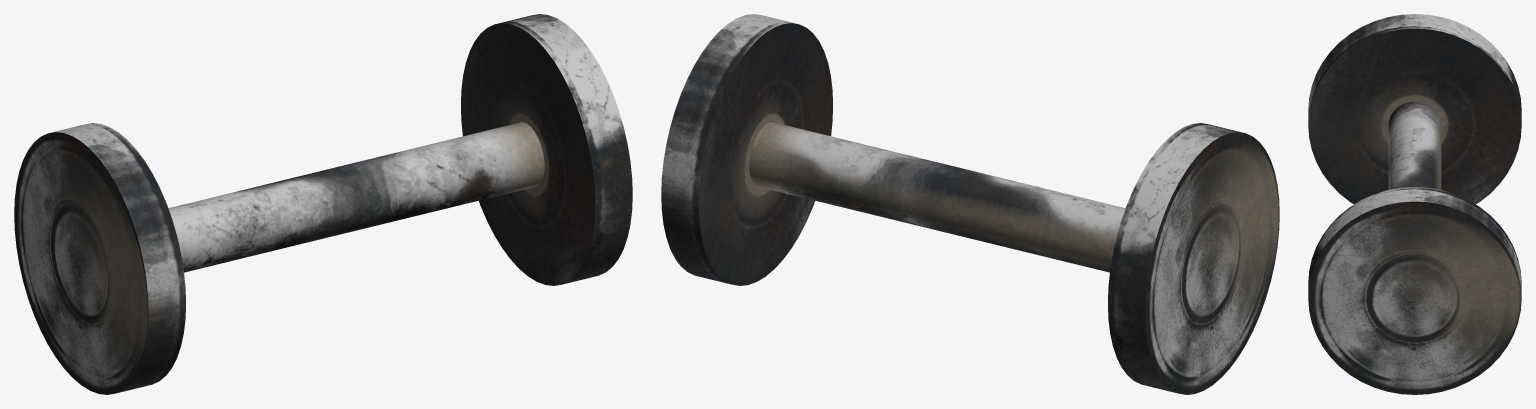
The model's file is SM_TrainWheelsSingle.FBX.
The picture shows the model from 3 angles, left to right: view 1: azimuth 30°, elevation 25°; view 2: azimuth 150°, elevation 25°; view 3: azimuth 270°, elevation 25°; orthographic projection. The views are drawn at different scales.
Visible parts, largest first — view 1: SM_TrainWheelsSingle; view 2: SM_TrainWheelsSingle; view 3: SM_TrainWheelsSingle.
Boxes of the visible parts, box(x1,y1,x2,y2) form: SM_TrainWheelsSingle: box(14, 14, 632, 394); SM_TrainWheelsSingle: box(661, 14, 1279, 394); SM_TrainWheelsSingle: box(1308, 14, 1521, 394).
Size of the model in its own units: 183 by 88.12 by 88.12.
